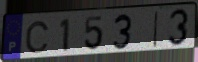1: (58, 17, 71, 52)
3: (165, 7, 193, 48), (111, 12, 133, 52)
5: (83, 15, 105, 52)
C: (24, 20, 51, 55)
I: (152, 10, 160, 49)
